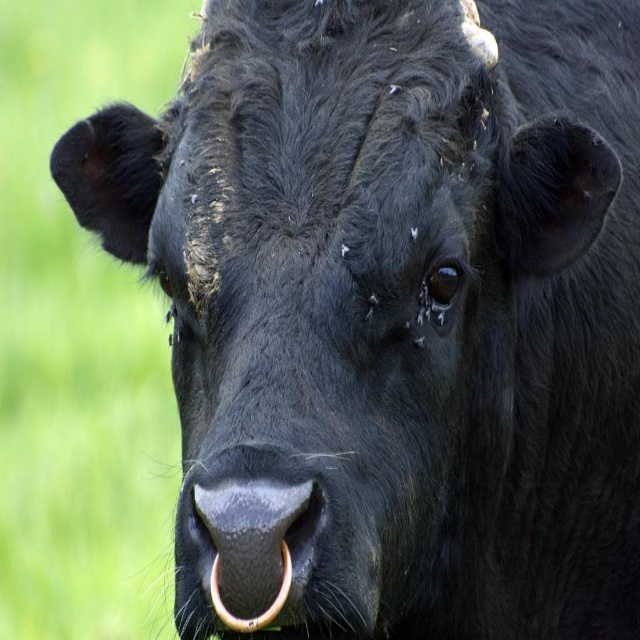Cattle: (47, 0, 640, 640)
